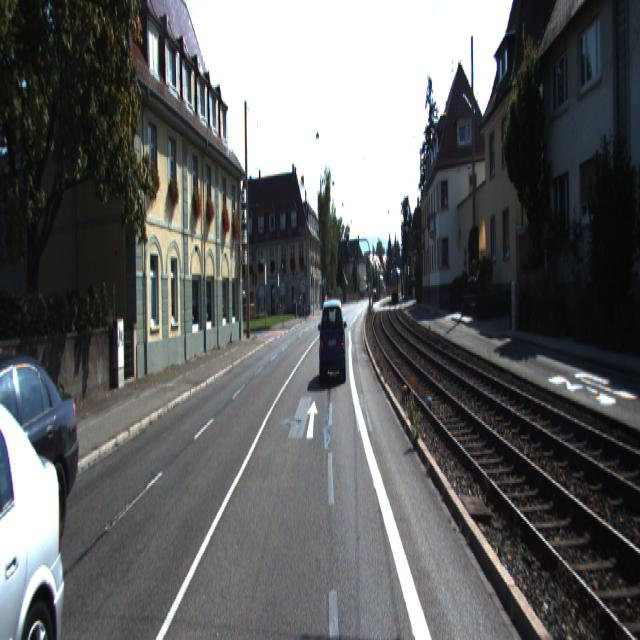Car: (0, 354, 87, 638), (0, 340, 91, 600), (319, 297, 346, 386)
